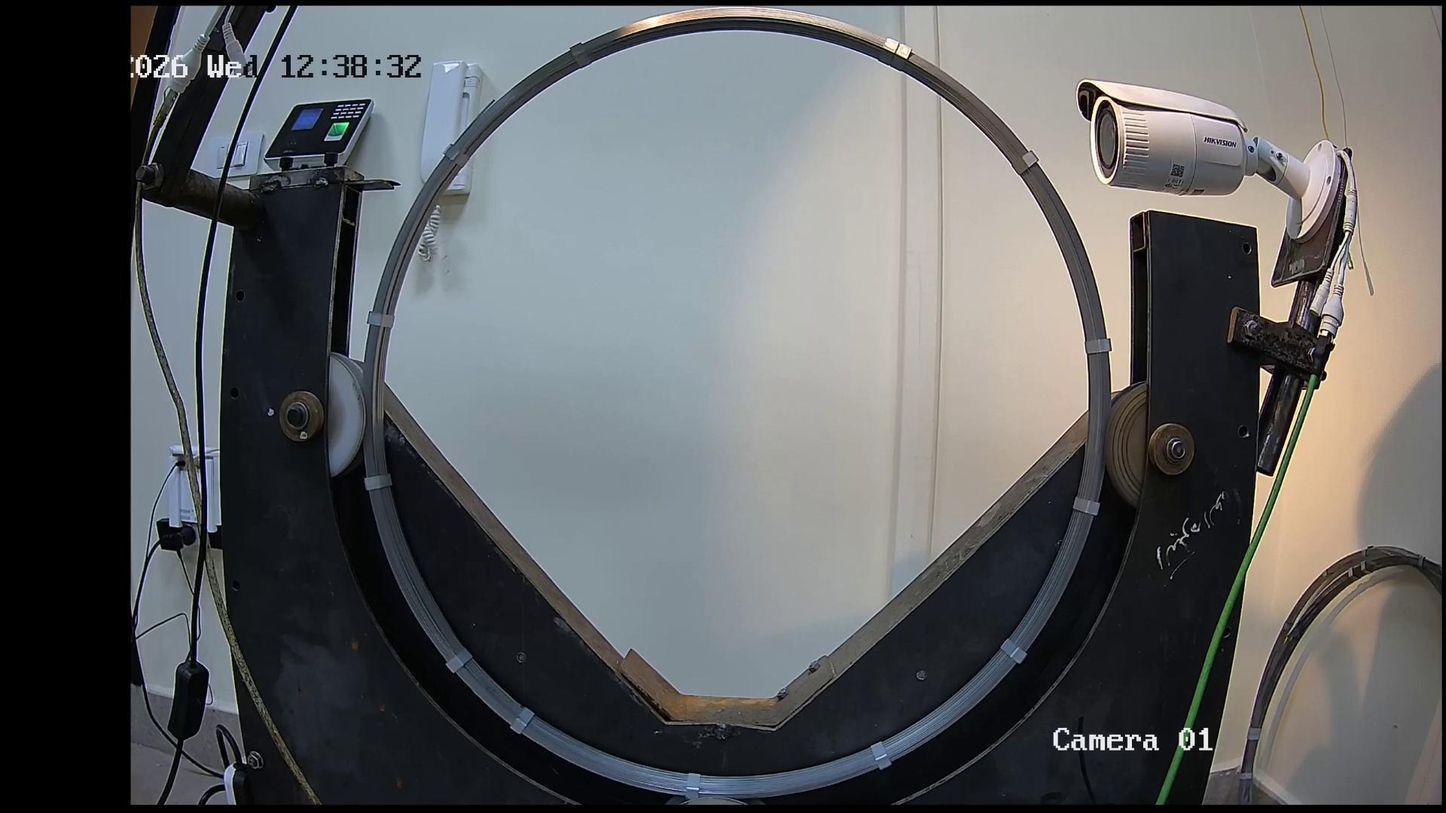clamp: (354, 297, 412, 335), (424, 145, 493, 175), (505, 693, 550, 736), (354, 457, 397, 502), (441, 634, 478, 681), (864, 21, 896, 70), (892, 24, 919, 81), (676, 770, 715, 809), (1073, 327, 1113, 365), (992, 629, 1028, 670), (559, 32, 595, 73), (1007, 141, 1047, 177), (864, 732, 896, 773), (1062, 495, 1113, 519)
